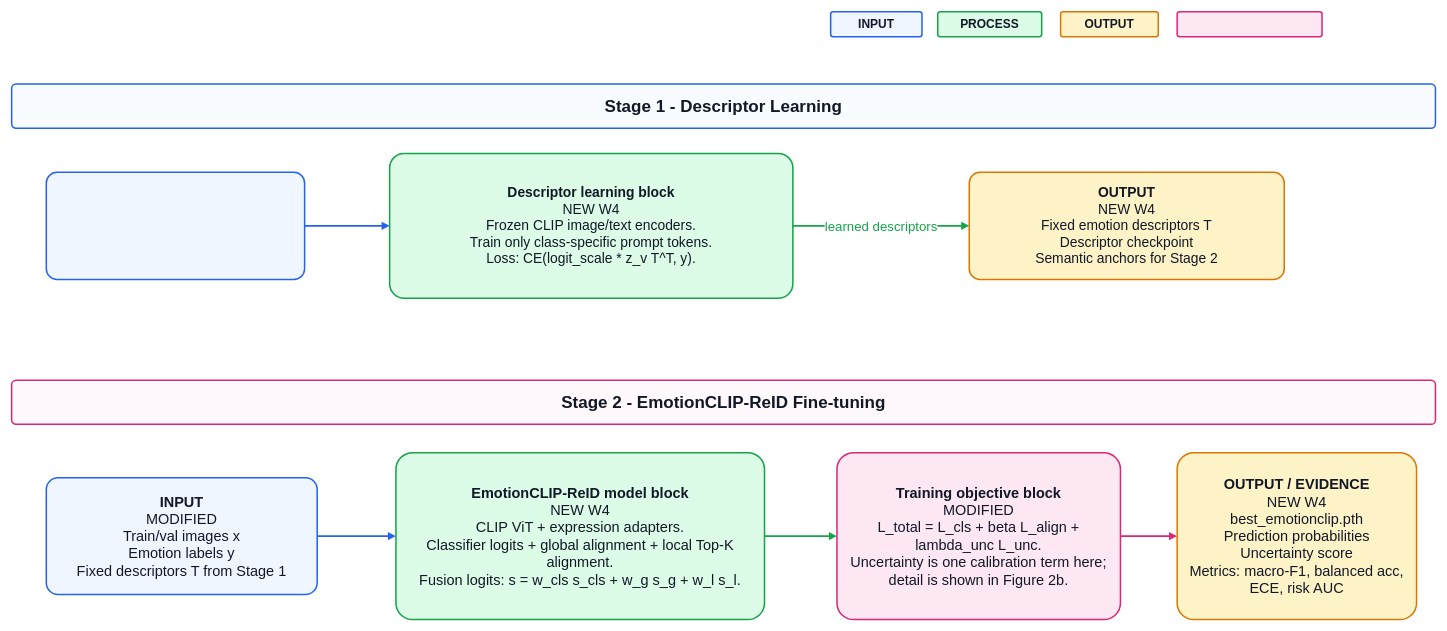
Some shapes in this 1447 by 631 pixel diagram are drawn without their labels. The box of each missing label's shape, as (x1, y1, x2, y2) in pixels:
INPUT MODIFIED Train images x Emotion labels y 7 class names: (45, 171, 305, 280)
UNCERTAINTY TERM: (1176, 11, 1322, 37)
